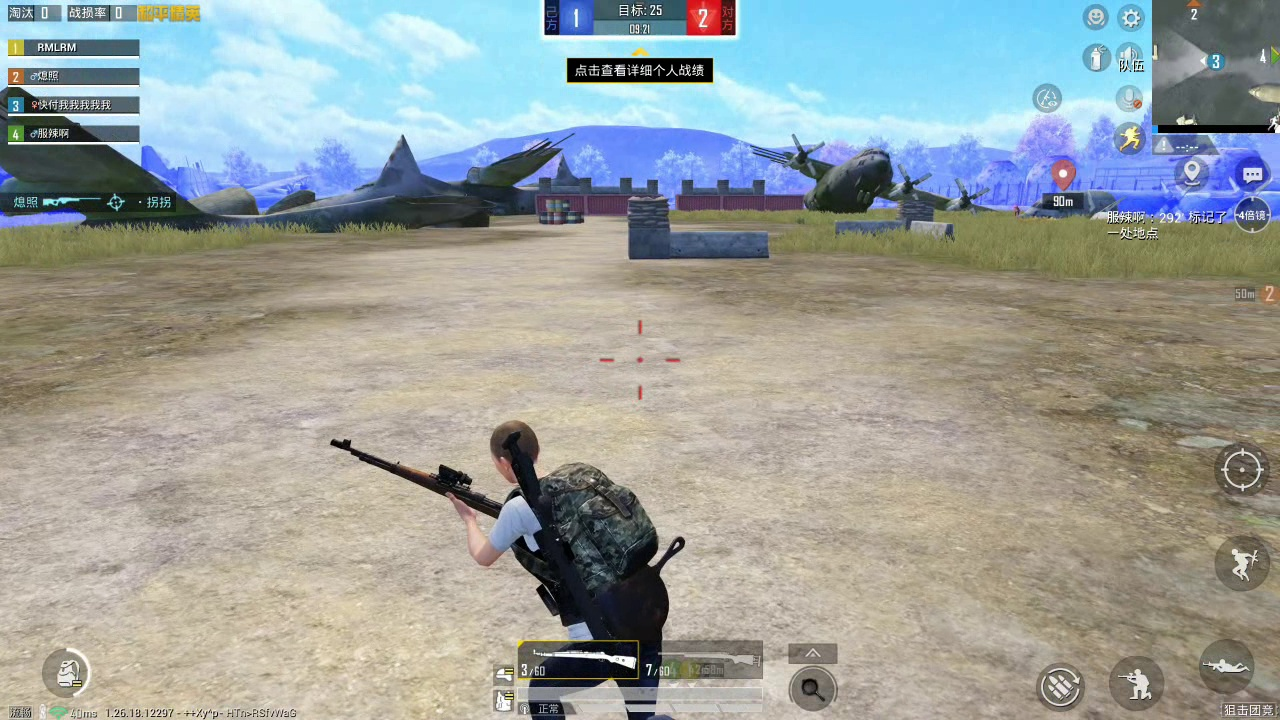enemy: (1011, 203, 1021, 216)
